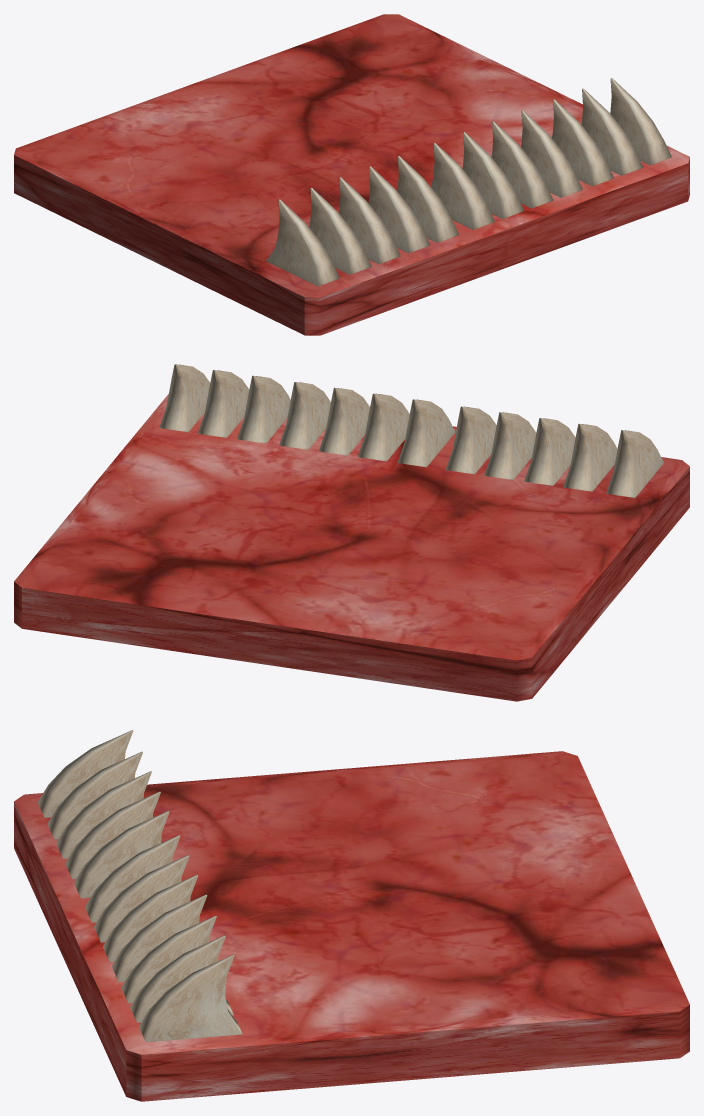
File: plataforma_dientes_unicos.fbx
The picture shows the model from 3 angles, top to bottom: view 1: azimuth 30°, elevation 25°; view 2: azimuth 150°, elevation 25°; view 3: azimuth 270°, elevation 25°; orthographic projection. The views are drawn at different scales.
Parts seen in each view (by area): view 1: plataforma_dientes_doble__6_; view 2: plataforma_dientes_doble__6_; view 3: plataforma_dientes_doble__6_.
Part boxes in pixels (x1,y1,x2,y2): plataforma_dientes_doble__6_: (14, 14, 689, 335); plataforma_dientes_doble__6_: (14, 364, 689, 701); plataforma_dientes_doble__6_: (14, 730, 689, 1101).
Bounding box in the file's own units: 684 × 131 × 643.
